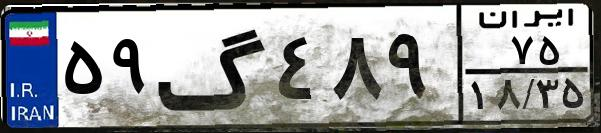1: (470, 70, 495, 125)
3: (535, 70, 560, 125)
4: (270, 28, 330, 110)
5: (57, 26, 110, 100), (560, 70, 590, 125), (537, 27, 568, 80)
7: (508, 27, 537, 80)
8: (330, 28, 385, 110), (495, 70, 520, 125)
9: (385, 28, 445, 110), (110, 28, 156, 98)
گ: (156, 12, 270, 120)
